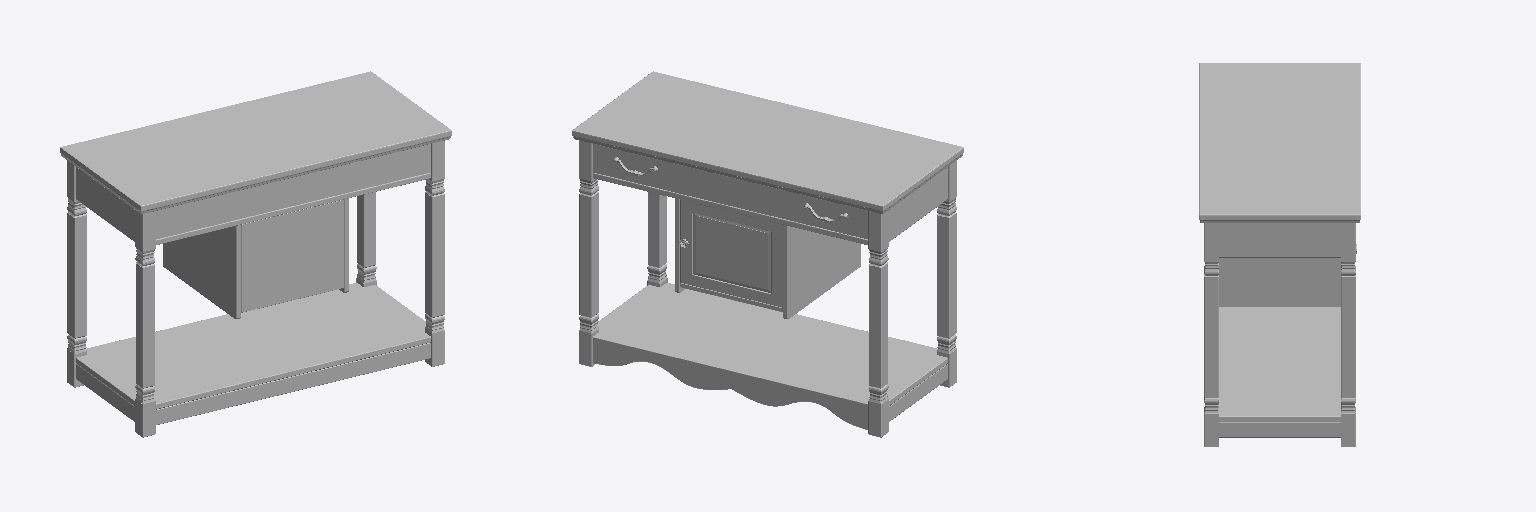
File: old_rustic_stand.obj
3 renders of one model, left to right at view 1: azimuth 30°, elevation 25°; view 2: azimuth 150°, elevation 25°; view 3: azimuth 270°, elevation 25°, orthographic.
Parts seen in each view (by area): view 1: old_rustic_stand; view 2: old_rustic_stand; view 3: old_rustic_stand.
Boxes of the visible parts, box(x1,y1,x2,y2) form: old_rustic_stand: box(60, 71, 451, 437); old_rustic_stand: box(572, 71, 963, 437); old_rustic_stand: box(1199, 63, 1360, 446).
Size of the model in its own units: 1.27 by 0.9144 by 0.5718.